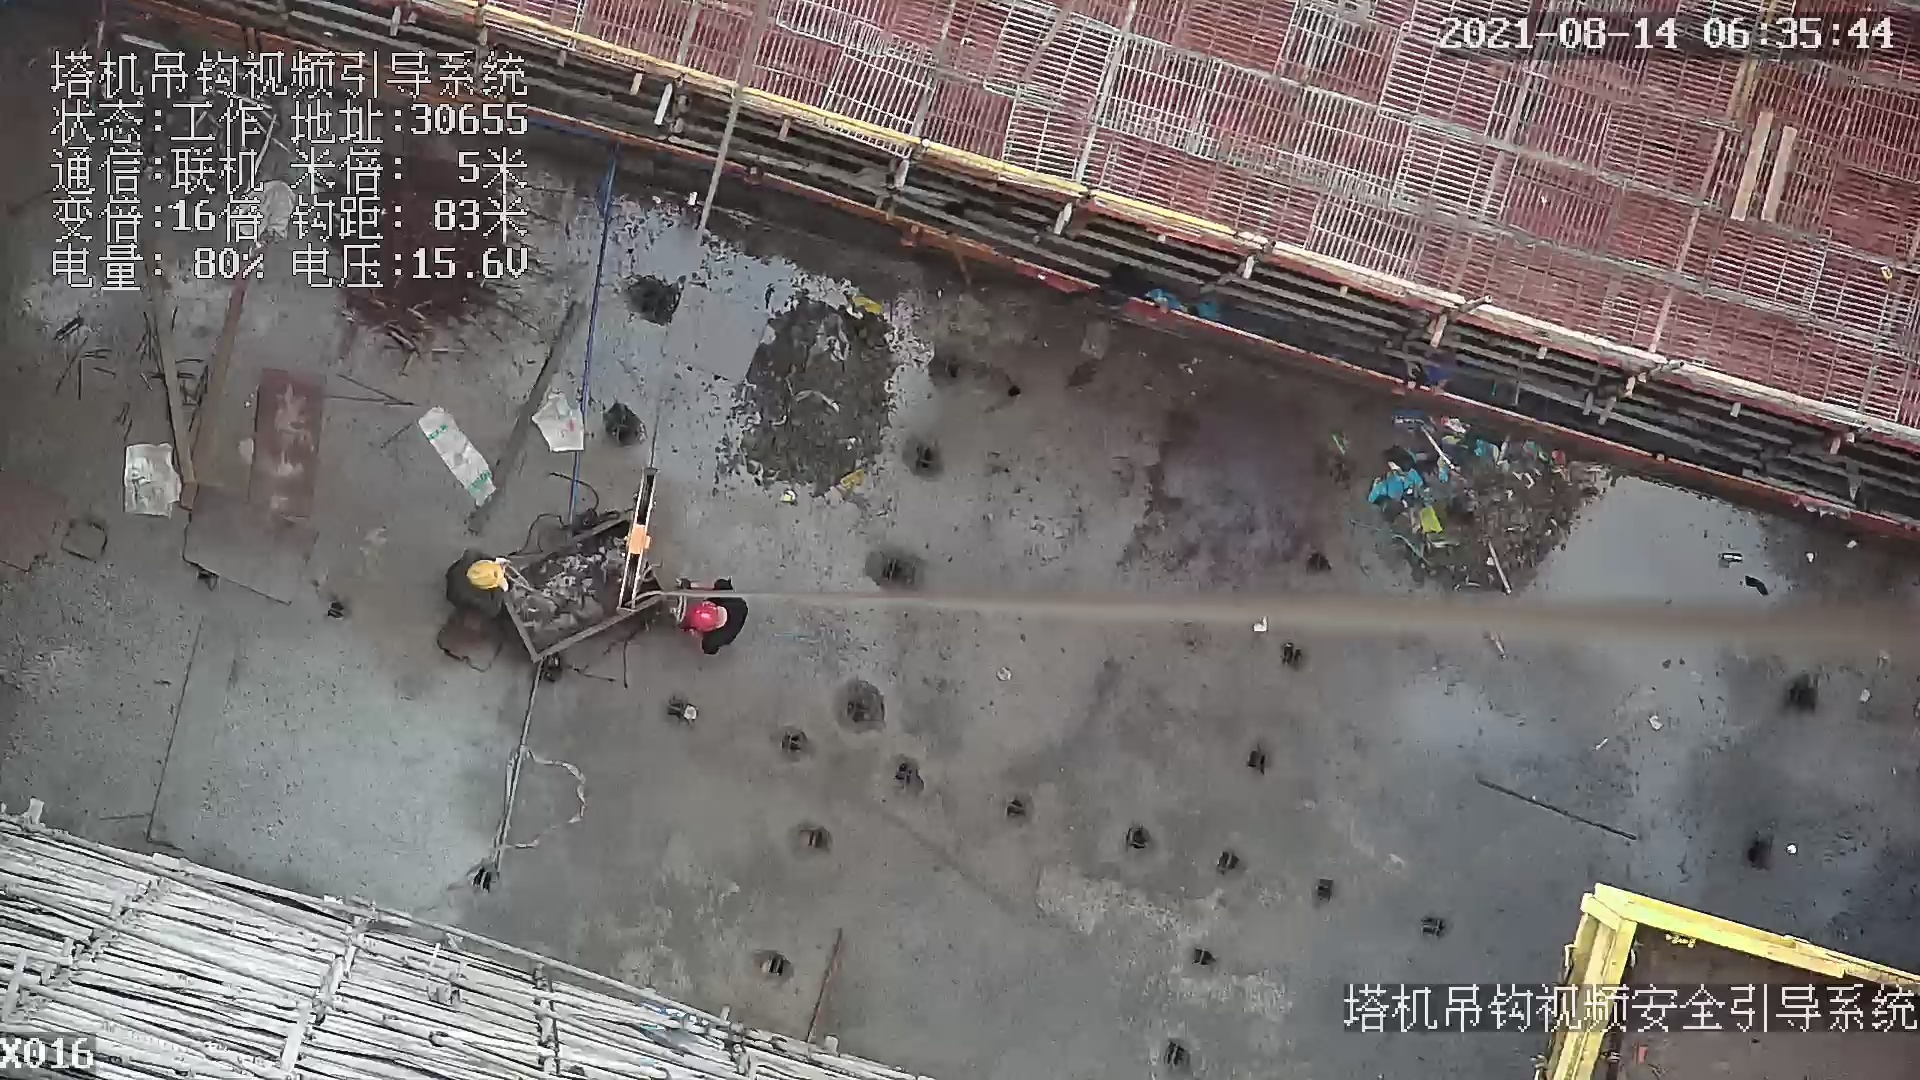helmet: (685, 599, 724, 640), (470, 555, 508, 596)
hook: (608, 464, 670, 604)
hopper: (514, 501, 669, 695)
person: (446, 542, 523, 628), (673, 585, 758, 658)
